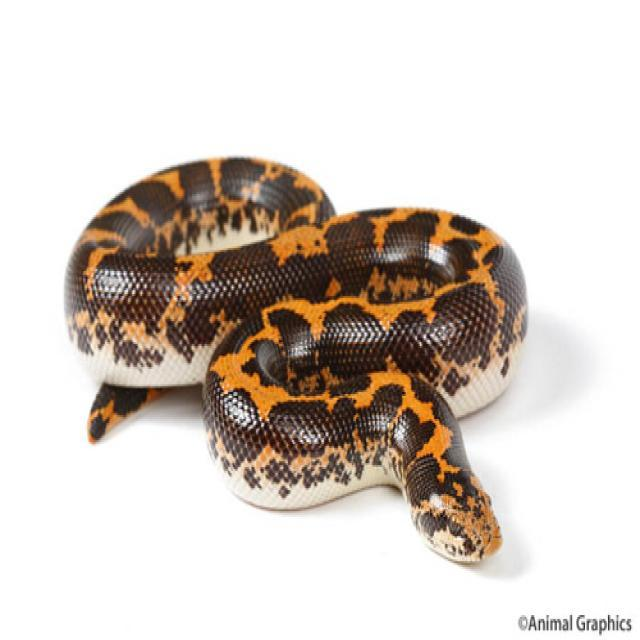Snake: (62, 152, 528, 564)
